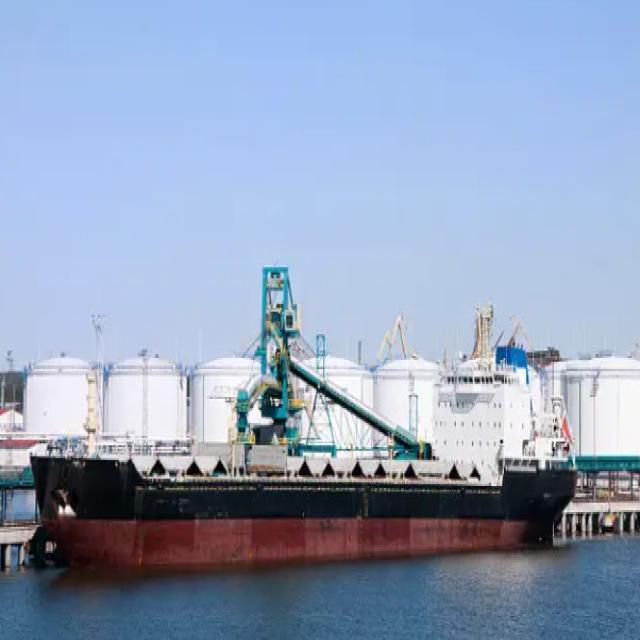cargoship: (32, 344, 574, 574)
